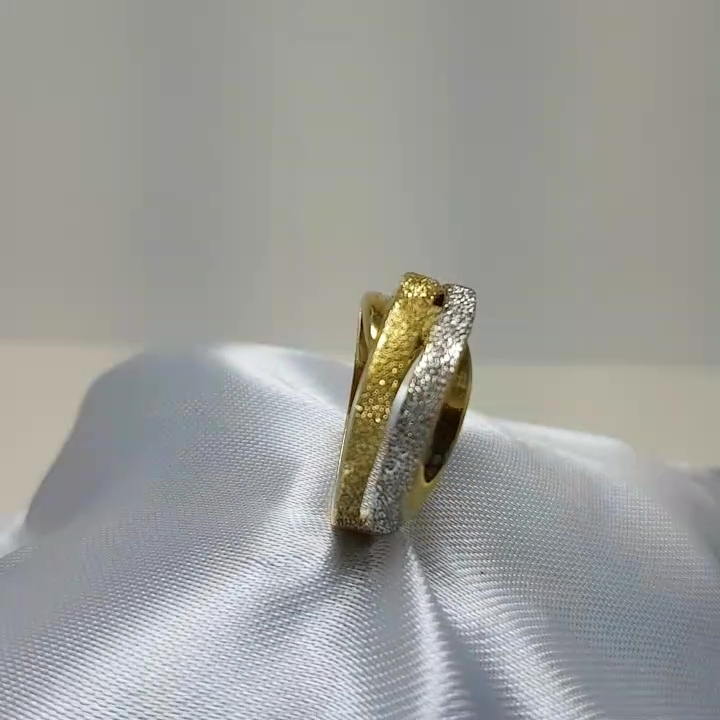Ring 5: (283, 263, 521, 565)
